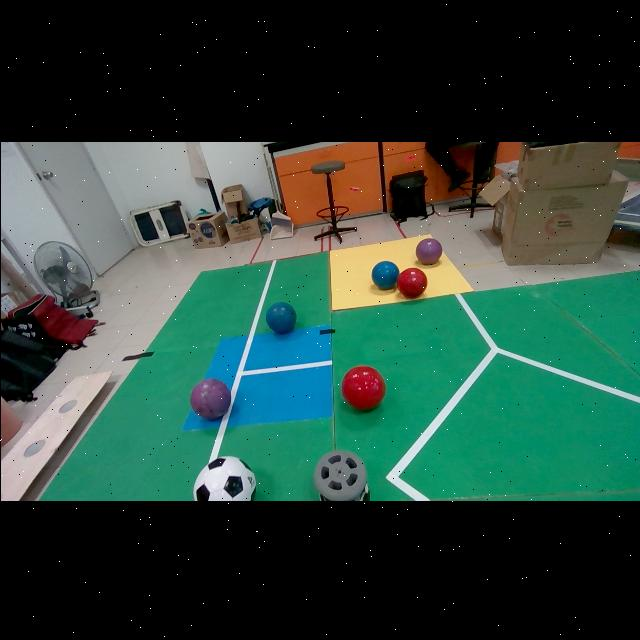B: (266, 300, 295, 332), (371, 259, 399, 288)
P: (190, 377, 230, 418), (416, 237, 442, 263)
R: (342, 364, 385, 409), (397, 267, 426, 296)
